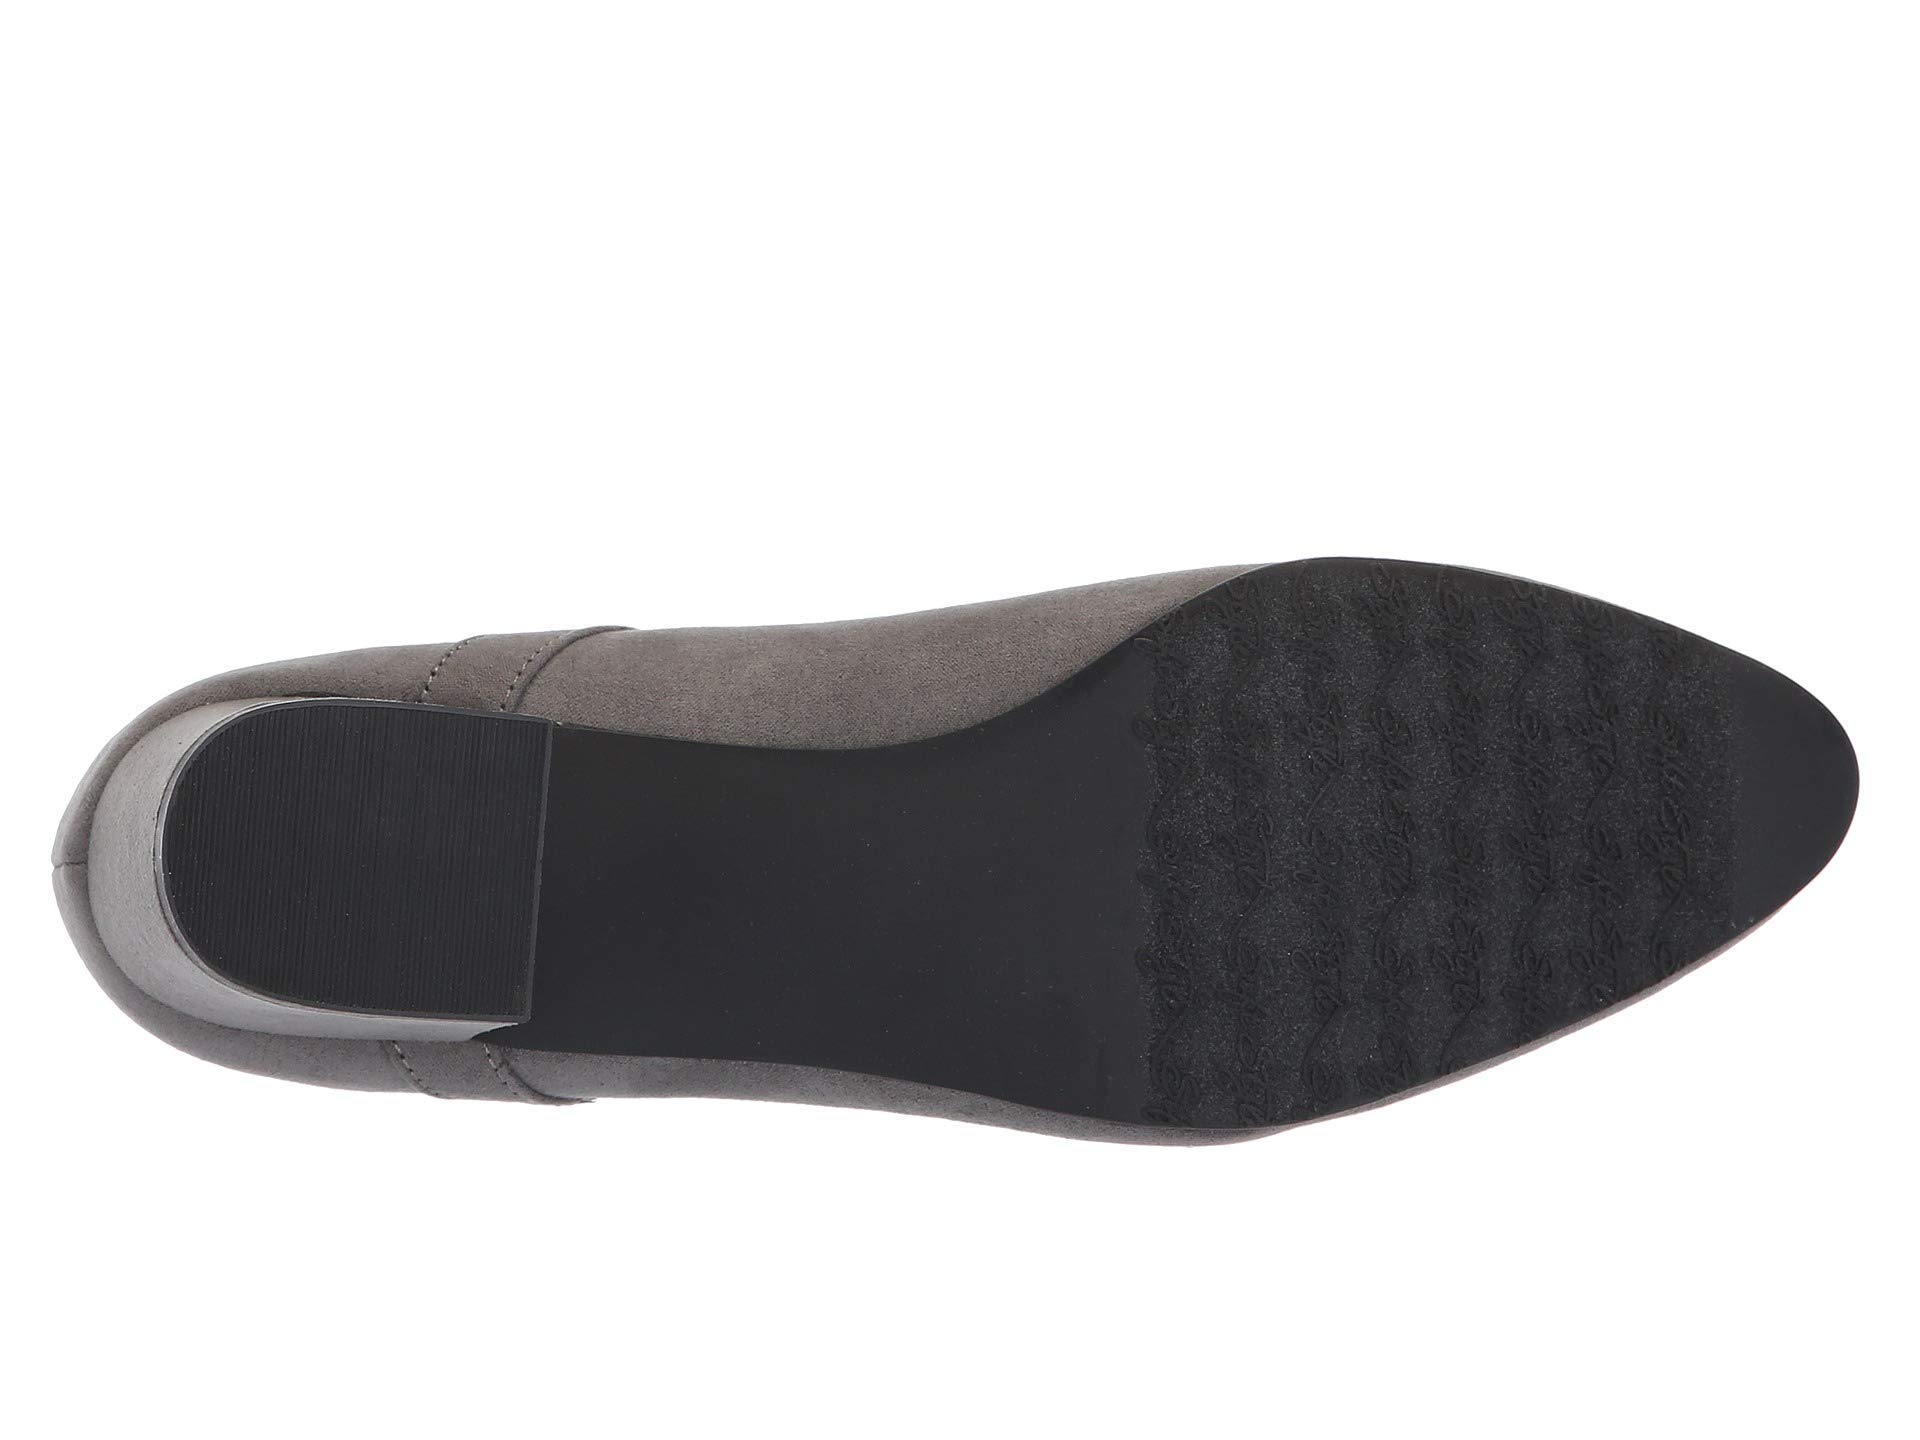line: (278, 753, 496, 923)
other: (1288, 658, 1696, 968)
